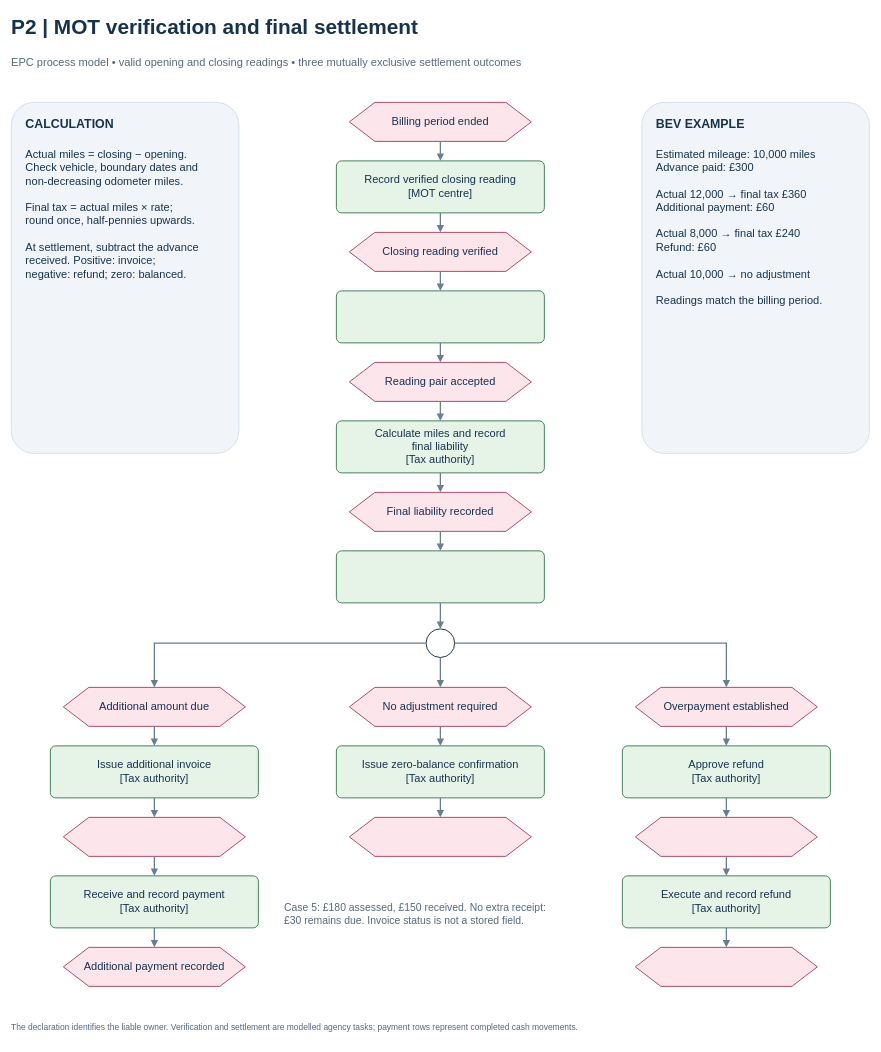
This 881x1052 diagram has some shape labels left out. Each missing label, with the centre of its shape:
"Account balanced" belongs at (440,837).
"Additional invoice issued" belongs at (154,837).
"Compare final tax with paid advance [Tax authority]" belongs at (440,576).
"Refund authorised" belongs at (726,837).
"Refund recorded" belongs at (726,967).
"Validate both boundary readings [Tax authority]" belongs at (440,316).
"XOR" belongs at (440,643).
